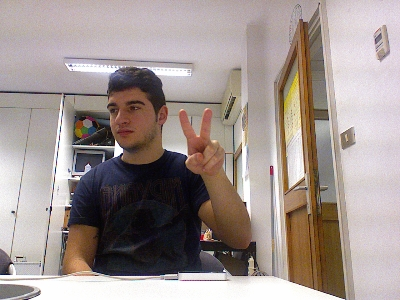剪刀: (177, 105, 226, 176)
